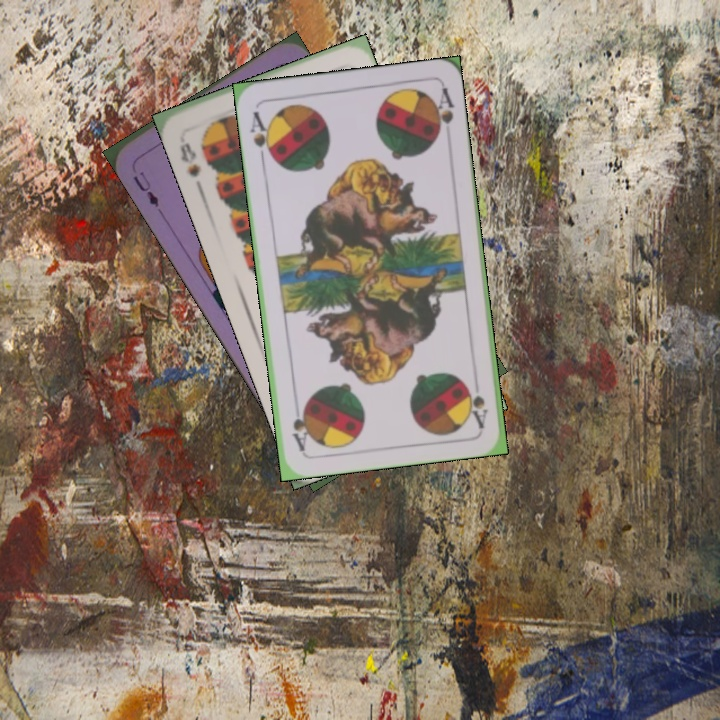EU: (128, 167, 164, 215)
S8: (176, 138, 204, 180)
SA: (246, 107, 276, 165), (464, 371, 490, 430)
